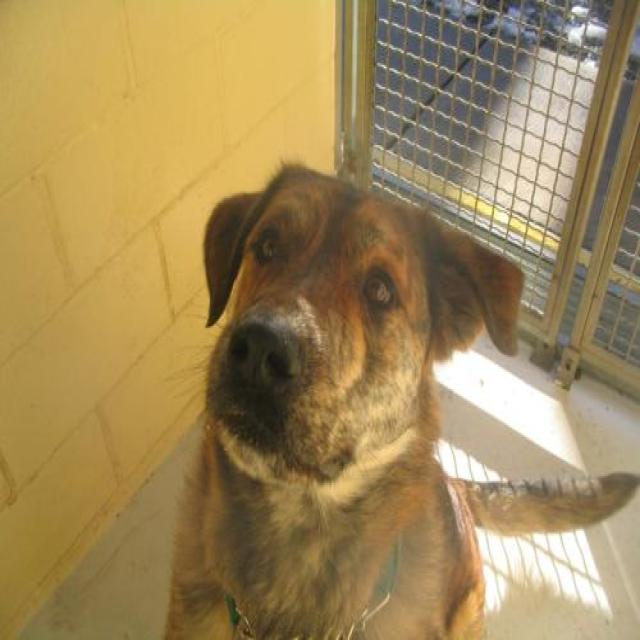Dogs: (156, 159, 639, 638)
